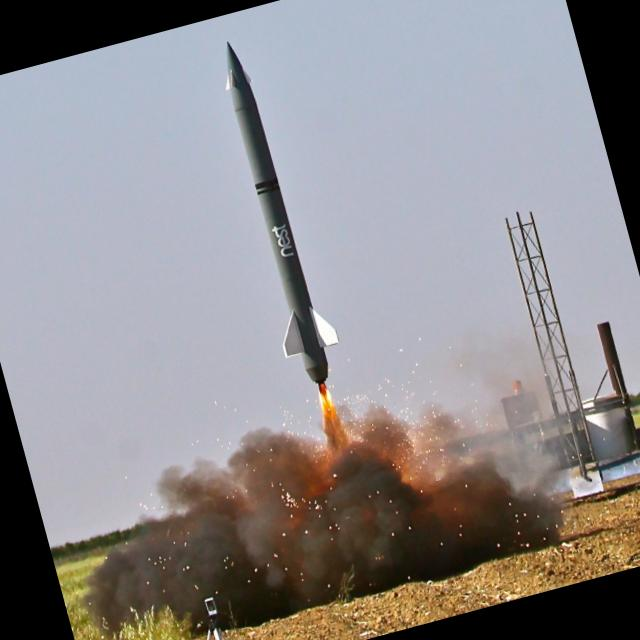rocket: (205, 25, 370, 463)
